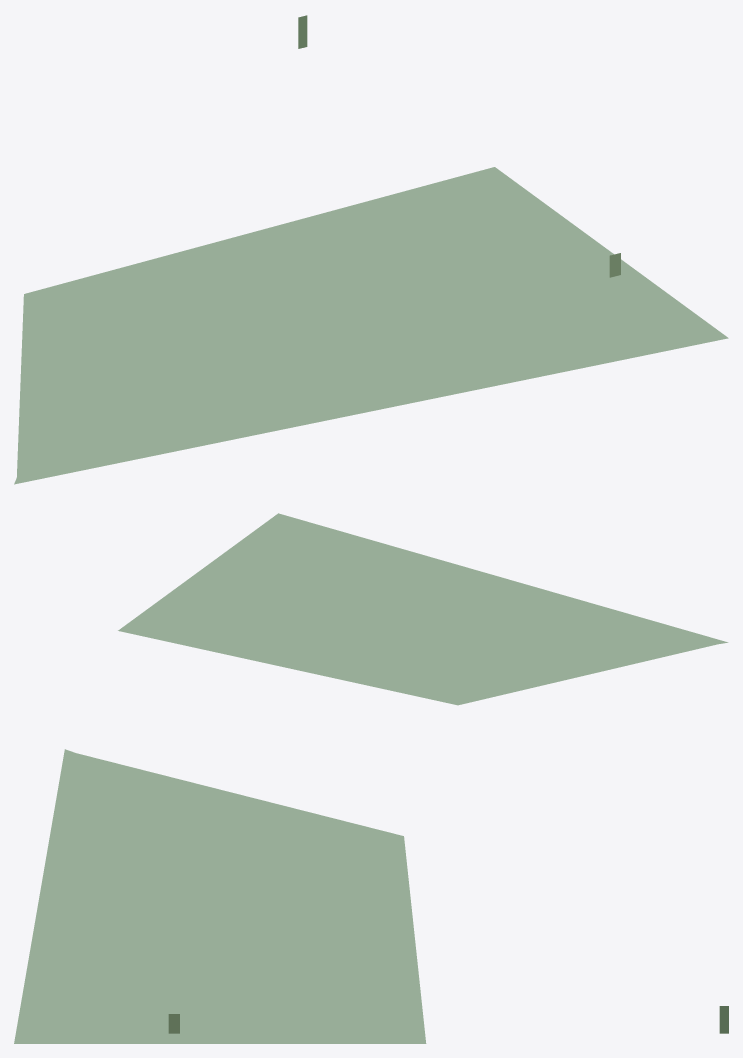
3 renders of one model, top to bottom at view 1: azimuth 30°, elevation 25°; view 2: azimuth 150°, elevation 25°; view 3: azimuth 270°, elevation 25°, orthographic. The views are drawn at different scales.
Size of the model in its own units: 152 by 6.79 by 156.
